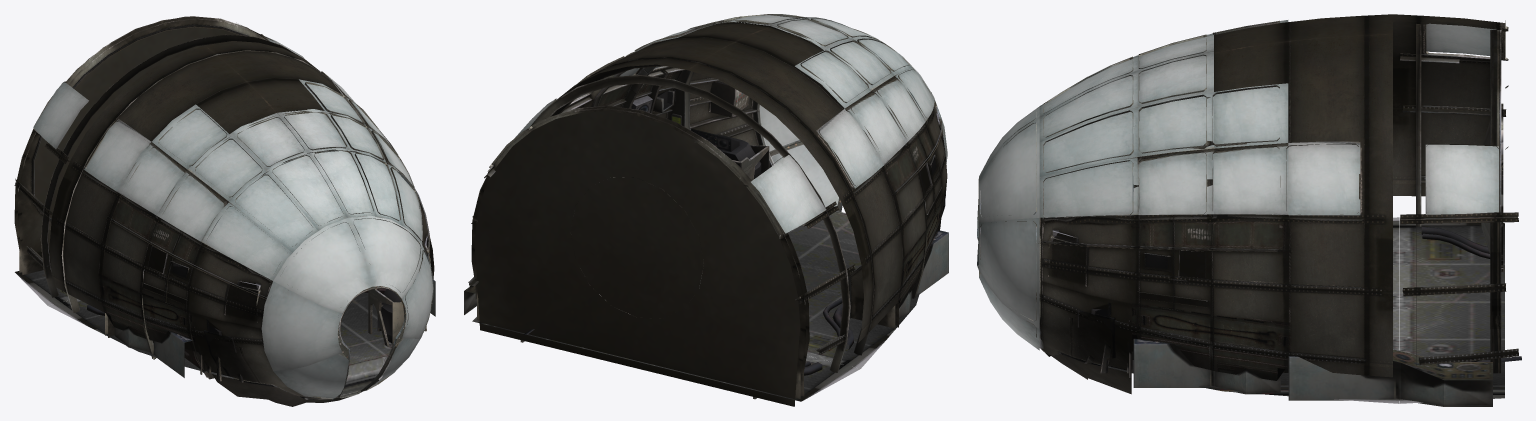
Rendered from Base_Boeing B-29_interier.fbx.
3 views of the same model, side by side, from view 1: azimuth 30°, elevation 25°; view 2: azimuth 150°, elevation 25°; view 3: azimuth 270°, elevation 25° (orthographic). The views are drawn at different scales.
Parts seen in each view (by area): view 1: Glass, Boeing_B_29_Interior, Boeing_B_29_Interior2; view 2: Boeing_B_29_Interior2, Boeing_B_29_Interior, Glass; view 3: Boeing_B_29_Interior, Glass, Boeing_B_29_Interior2.
Boxes of the visible parts, left/top/right/bottom form: Glass: left=33, top=36, right=433, bottom=399; Boeing_B_29_Interior: left=48, top=41, right=435, bottom=406; Boeing_B_29_Interior2: left=14, top=16, right=301, bottom=305; Boeing_B_29_Interior2: left=464, top=75, right=859, bottom=406; Boeing_B_29_Interior: left=552, top=14, right=948, bottom=368; Glass: left=515, top=15, right=947, bottom=233; Boeing_B_29_Interior: left=977, top=14, right=1398, bottom=403; Glass: left=979, top=20, right=1498, bottom=350; Boeing_B_29_Interior2: left=1288, top=14, right=1521, bottom=406.
Bounding box in the file's own units: 281 × 225 × 343.
